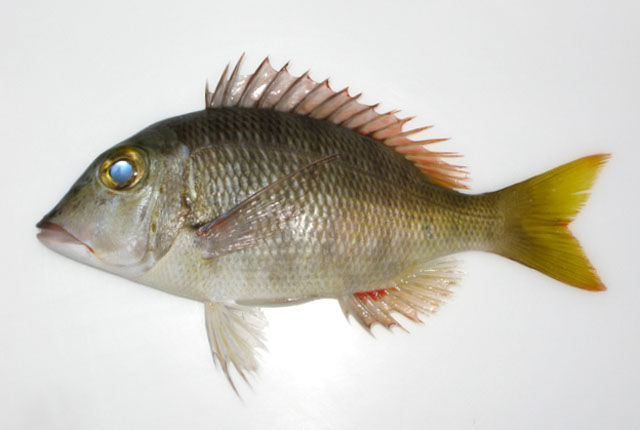fish: (35, 50, 615, 405)
